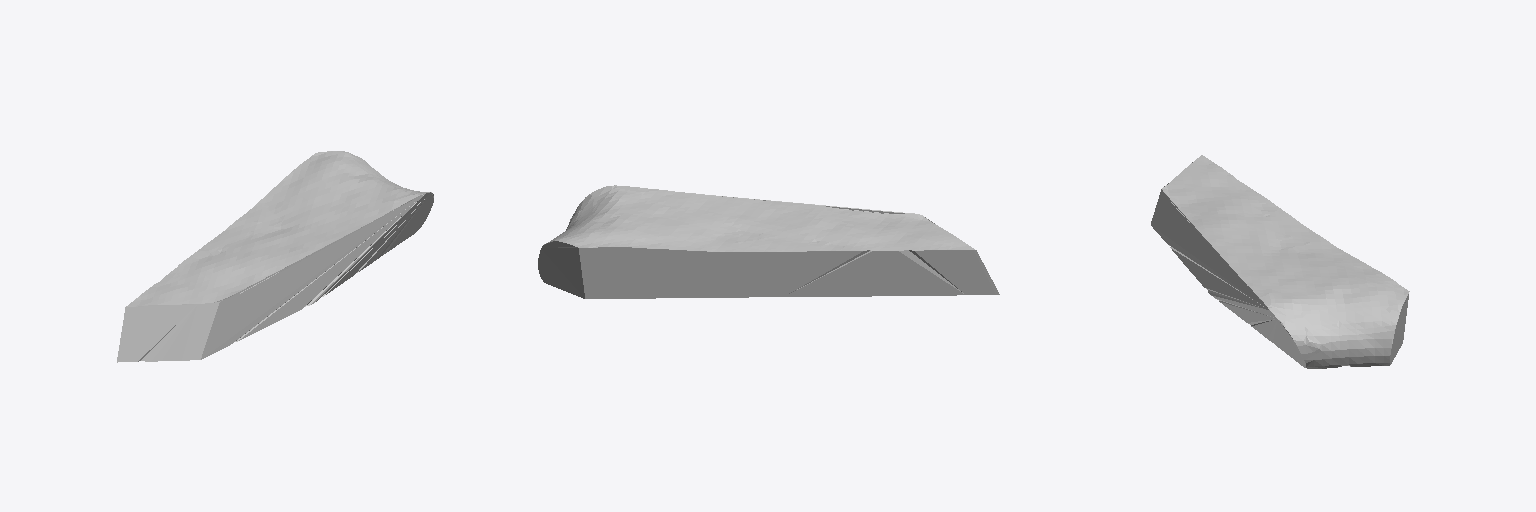
File: low_cell_078.obj
The picture shows the model from 3 angles: view 1: azimuth 30°, elevation 25°; view 2: azimuth 150°, elevation 25°; view 3: azimuth 270°, elevation 25°; orthographic projection.
Parts seen in each view (by area): view 1: low_cell.078_low_cell.077; view 2: low_cell.078_low_cell.077; view 3: low_cell.078_low_cell.077.
Part boxes in pixels (x1,y1,x2,y2): low_cell.078_low_cell.077: (117, 151, 433, 362); low_cell.078_low_cell.077: (538, 185, 999, 298); low_cell.078_low_cell.077: (1151, 155, 1409, 368).
Size of the model in its own units: 0.9825 by 0.1408 by 0.5939.